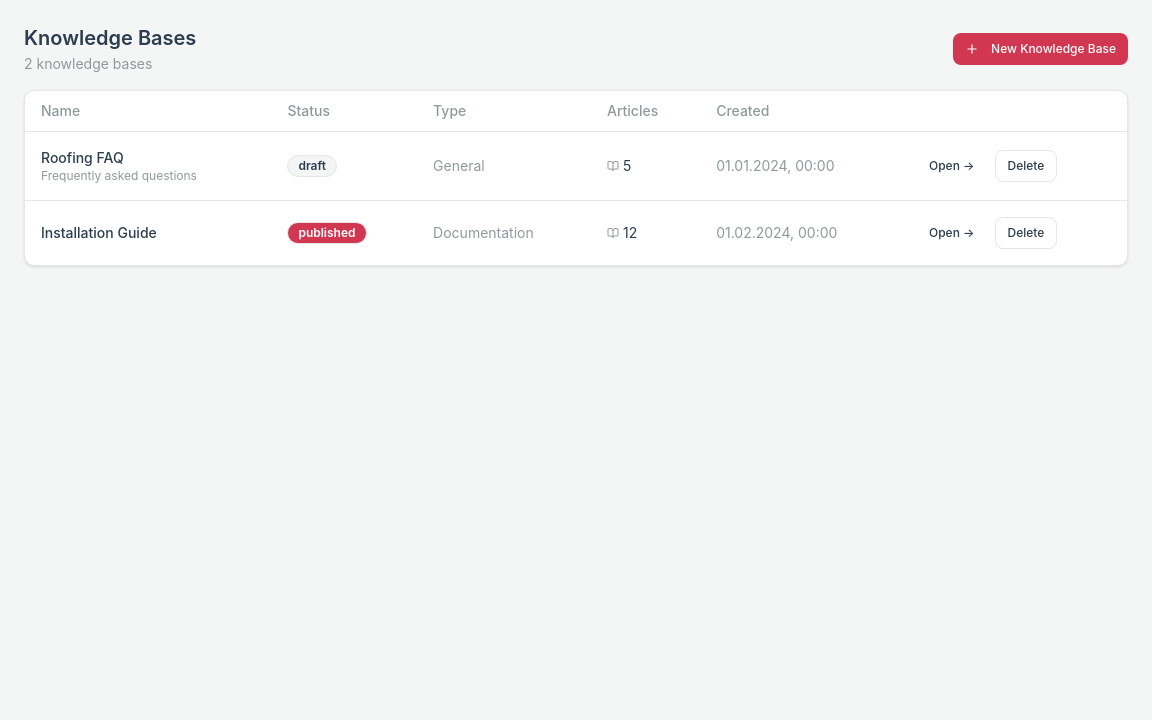
KnowledgeBasesPage › create form closes when create button is clicked again
The image size is (1152, 720).
Step 1. Click the button with test id "kb-create-button" → (1041, 49), box [953,33,1128,65]
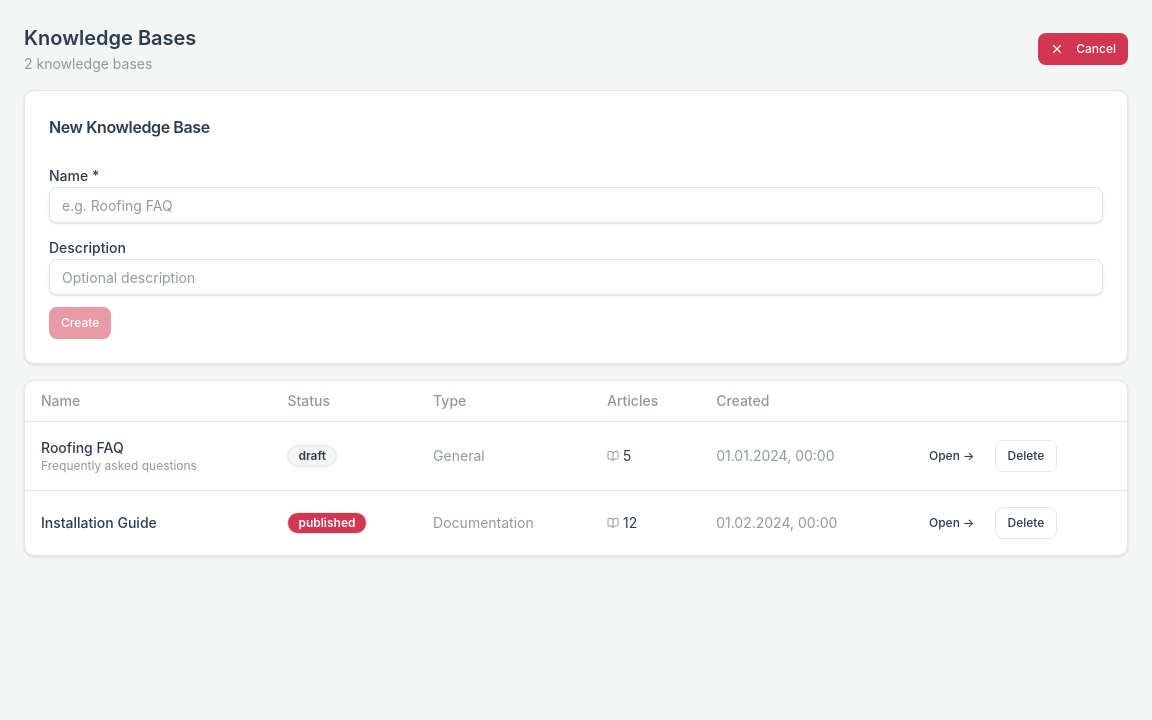
Step 2. Click the button with test id "kb-create-button" → (1083, 49), box [1038,33,1128,65]
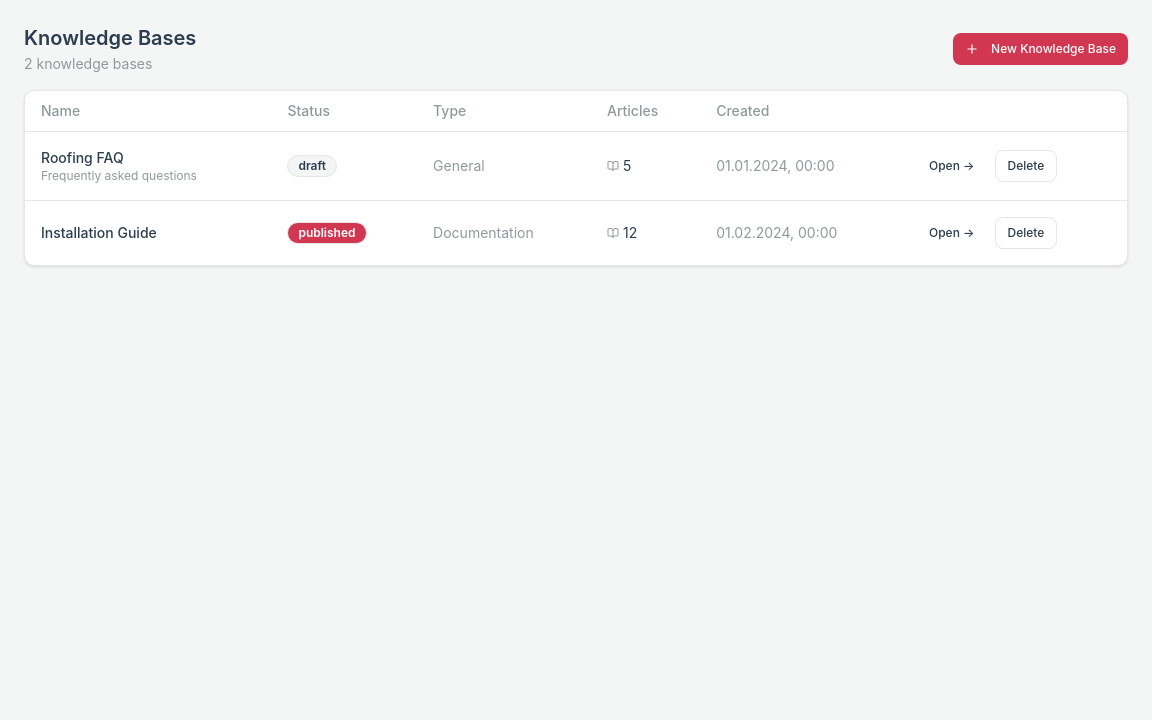
expect the element with test id "kb-create-form" is gone: met
